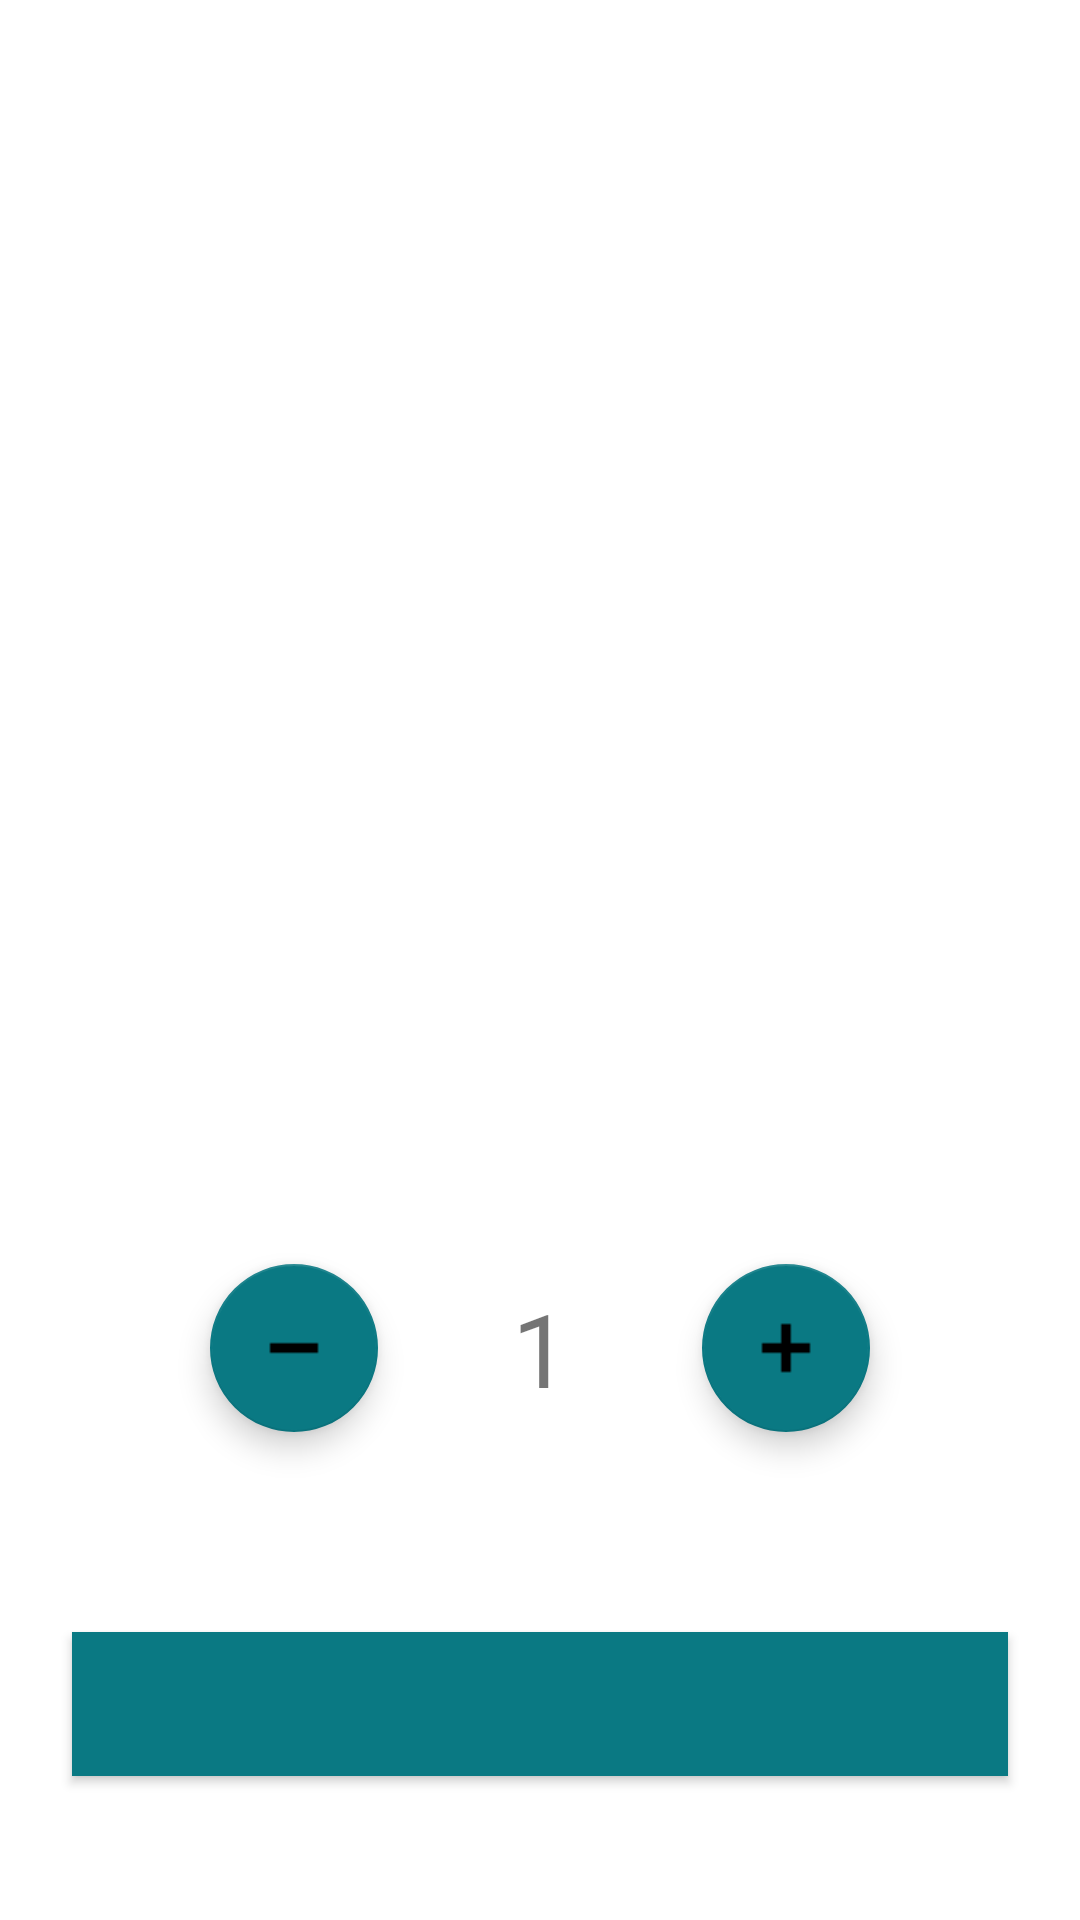

Locate icon controls on the screen. Image size 1080w x 1920h, boxes as (x1, y1, x2, y2).
moins: (210, 1264, 378, 1432)
plus: (702, 1264, 870, 1432)
